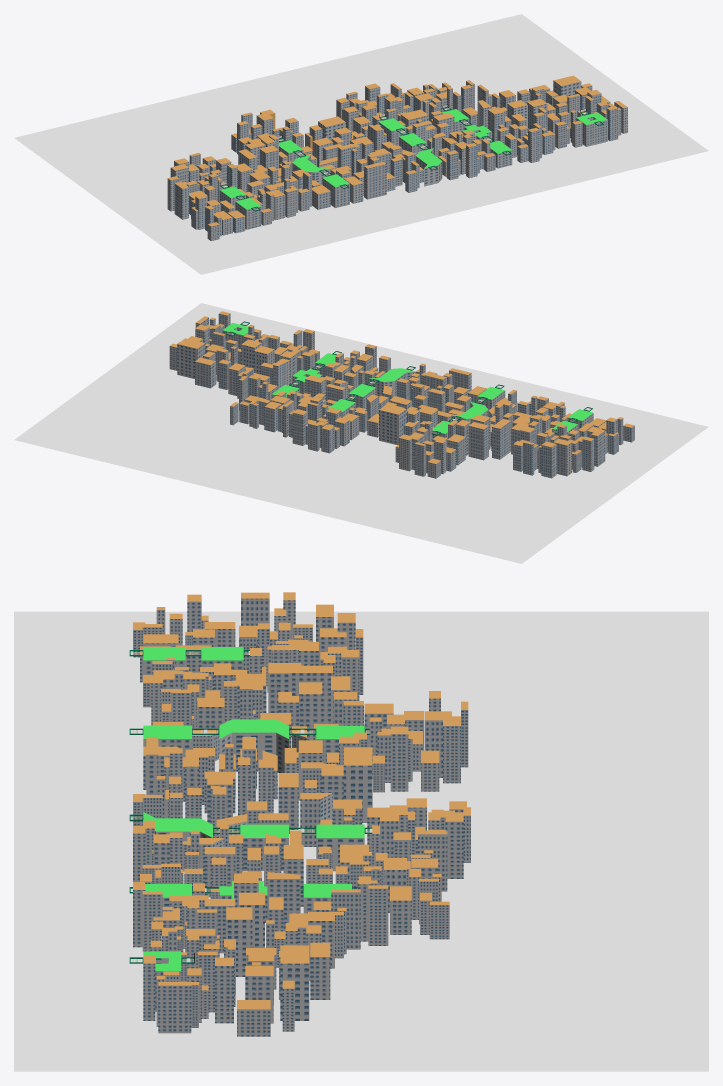
Rendered from level1.fbx.
3 renders of one model, top to bottom at view 1: azimuth 30°, elevation 25°; view 2: azimuth 150°, elevation 25°; view 3: azimuth 270°, elevation 25°, orthographic. The views are drawn at different scales.
Parts seen in each view (by area): view 1: Object_1096, Object_272, Object_460, Object_848, Object_414, Object_748, Object_939; view 2: Object_1096, Object_274, Object_24, Object_1007, Object_999, Object_18, Object_417, Object_410, Object_228; view 3: Object_1096, Object_46, Object_850, Object_24, Object_274, Object_76, Object_230, Object_74, Object_78, Object_170, Object_120, Object_176 (+15 smaller).
Boxes of the visible parts, <box> form: Object_1096: <box>14,14,708,274</box>; Object_272: <box>364,164,386,199</box>; Object_460: <box>576,117,607,146</box>; Object_848: <box>322,178,349,207</box>; Object_414: <box>174,183,188,219</box>; Object_748: <box>415,148,442,186</box>; Object_939: <box>235,201,261,229</box>; Object_1096: <box>14,303,708,563</box>; Object_274: <box>379,409,406,444</box>; Object_24: <box>177,343,205,378</box>; Object_1007: <box>468,426,488,460</box>; Object_999: <box>492,421,510,459</box>; Object_18: <box>195,361,216,388</box>; Object_417: <box>553,442,571,476</box>; Object_410: <box>541,444,556,478</box>; Object_228: <box>292,412,307,445</box>; Object_1096: <box>14,611,708,1071</box>; Object_46: <box>158,985,191,1033</box>; Object_850: <box>219,732,288,772</box>; Object_24: <box>280,963,309,1020</box>; Object_274: <box>343,765,372,822</box>; Object_76: <box>368,888,388,945</box>; Object_230: <box>300,793,332,846</box>; Object_74: <box>331,892,360,949</box>; Object_78: <box>215,966,233,1023</box>; Object_170: <box>390,734,408,791</box>; Object_120: <box>267,879,300,931</box>; Object_176: <box>443,726,460,783</box>.
Bounding box in the file's own units: 344 × 30.4 × 220.
